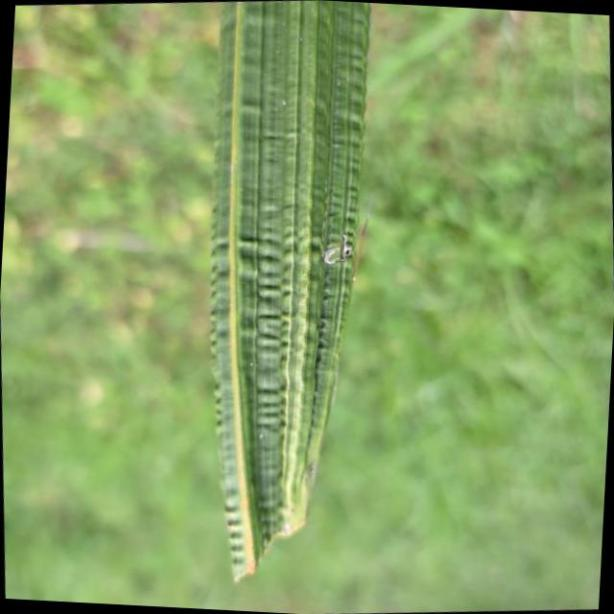Boron: (215, 0, 367, 572)
